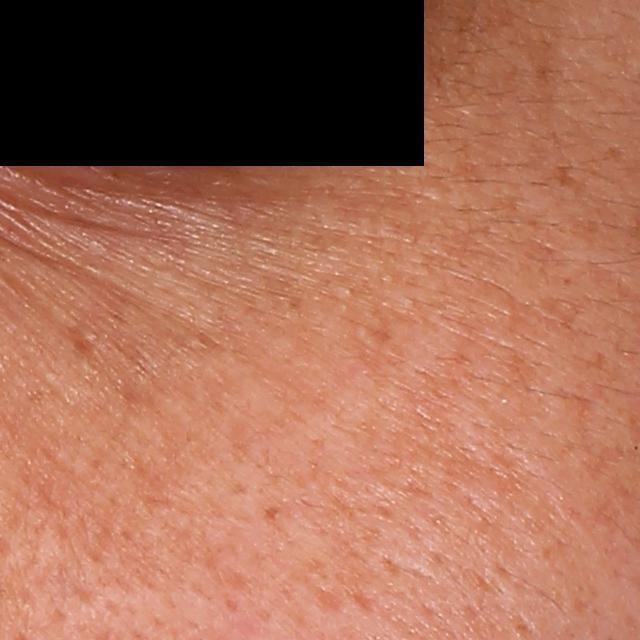melasma: (550, 160, 579, 186)
